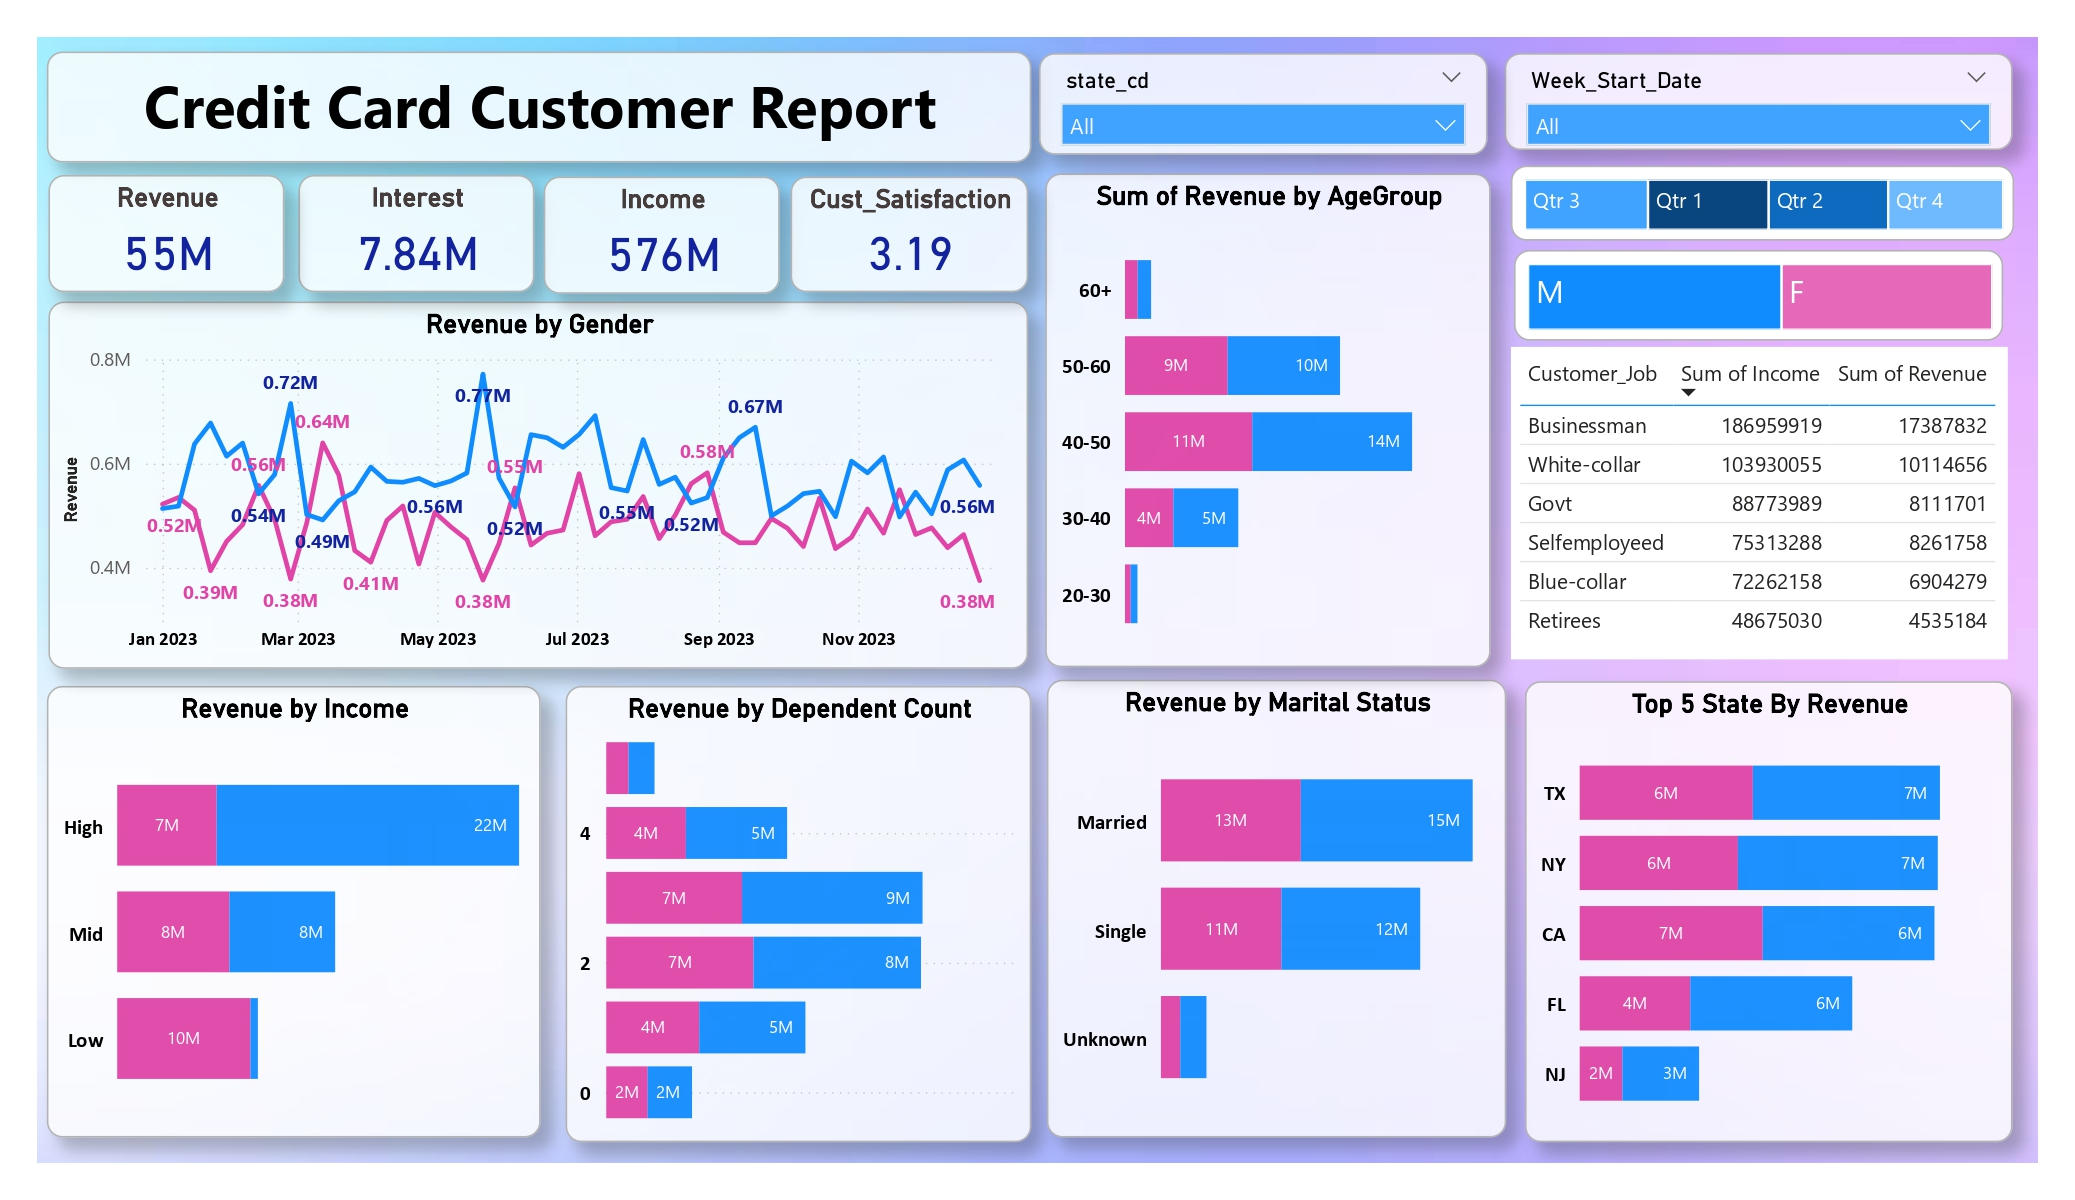

Layout of this report page (visuals, bound fields, positions):
{"tool":"powerbi","page":{"name":"Credit Card Customer Report","canvas":[1280,720],"ordinal":1},"visuals":[{"type":"barChart","title":"Revenue by Income","fields":{"Series":["customer.Gender"],"Category":["customer.IncomeGroup"],"Y":["Sum(credit_card.Revenue)"]},"box":[6.1,414.9,316,289.2],"z":0},{"type":"lineChart","title":"Revenue by Gender","fields":{"Category":["credit_card.Week_Start_Date"],"Y":["Sum(credit_card.Revenue)"],"Series":["customer.Gender"]},"box":[7.3,169.1,626.9,234.7],"z":1000},{"type":"barChart","title":"Revenue by Dependent Count","fields":{"Y":["Sum(credit_card.Revenue)"],"Series":["customer.Gender"],"Category":["customer.Dependent_Count"]},"box":[337.7,414.9,298.3,292.2],"z":2000},{"type":"barChart","title":" Revenue by Marital Status ","fields":{"Y":["Sum(credit_card.Revenue)"],"Series":["customer.Gender"],"Category":["customer.Marital_Status"]},"box":[645.8,411.1,294.5,293],"z":3000},{"type":"barChart","title":"Top 5 State By Revenue ","fields":{"Y":["Sum(credit_card.Revenue)"],"Series":["customer.Gender"],"Category":["customer.state_cd"]},"box":[951.9,411.9,311.9,295.3],"z":4000},{"type":"barChart","title":"Sum of Revenue by AgeGroup","fields":{"Y":["Sum(credit_card.Revenue)"],"Series":["customer.Gender"],"Category":["customer.AgeGroup"]},"box":[645.1,86.8,284.7,316],"z":5000},{"type":"tableEx","fields":{"Values":["customer.Customer_Job","Sum(customer.Income)","Sum(credit_card.Revenue)"]},"box":[943.2,197.8,317.8,200.2],"z":6000},{"type":"textbox","box":[5.8,8.7,629.8,71.4],"z":7000},{"type":"card","title":"Interest ","fields":{"Values":["Sum(credit_card.Interest_Earned)"]},"box":[166.7,88.4,151.6,74.4],"z":8000},{"type":"card","title":"Income","fields":{"Values":["Sum(customer.Income)"]},"box":[323.6,89.4,151.6,74.4],"z":9000},{"type":"card","title":"Revenue ","fields":{"Values":["Sum(credit_card.Revenue)"]},"box":[6.8,88.4,151.6,74.4],"z":10000},{"type":"card","title":"Cust_Satisfaction","fields":{"Values":["Avg(customer.Cust_Satisfaction_Score)"]},"box":[482.1,88.9,152.1,74.4],"z":11000},{"type":"slicer","fields":{"Values":["credit_card.Week_Start_Date"]},"box":[938.9,10.2,325.1,62],"z":12000},{"type":"slicer","fields":{"Values":["customer.state_cd"]},"box":[641,9.7,287.2,65.6],"z":13000},{"type":"treemap","fields":{"Values":["Sum(credit_card.Revenue)"],"Group":["credit_card.Week_Start_Date.Variation.Date Hierarchy.Quarter"]},"box":[943.3,81.8,322,48.5],"z":14000},{"type":"treemap","fields":{"Group":["customer.Gender"],"Values":["Sum(credit_card.Revenue)"]},"box":[944.9,136.3,313.4,57.5],"z":15000}]}

Visuals, with their boxes on the page's 1280x720 design canvas (x1, y1, x2, y2). These are canvas units, not pixel positions in the 2075x1200 screenshot, which may show the page scaled, cropped or inside an application window:
"Revenue by Income" barChart: bbox=[6, 415, 322, 704]
"Revenue by Gender" lineChart: bbox=[7, 169, 634, 404]
"Revenue by Dependent Count" barChart: bbox=[338, 415, 636, 707]
" Revenue by Marital Status " barChart: bbox=[646, 411, 940, 704]
"Top 5 State By Revenue " barChart: bbox=[952, 412, 1264, 707]
"Sum of Revenue by AgeGroup" barChart: bbox=[645, 87, 930, 403]
tableEx - customer.Customer_Job x Sum(customer.Income): bbox=[943, 198, 1261, 398]
textbox: bbox=[6, 9, 636, 80]
"Interest " card: bbox=[167, 88, 318, 163]
"Income" card: bbox=[324, 89, 475, 164]
"Revenue " card: bbox=[7, 88, 158, 163]
"Cust_Satisfaction" card: bbox=[482, 89, 634, 163]
slicer - credit_card.Week_Start_Date: bbox=[939, 10, 1264, 72]
slicer - customer.state_cd: bbox=[641, 10, 928, 75]
treemap - Sum(credit_card.Revenue) x credit_card.Week_Start_Date.Variation.Date Hierarchy.Quarter: bbox=[943, 82, 1265, 130]
treemap - customer.Gender x Sum(credit_card.Revenue): bbox=[945, 136, 1258, 194]
